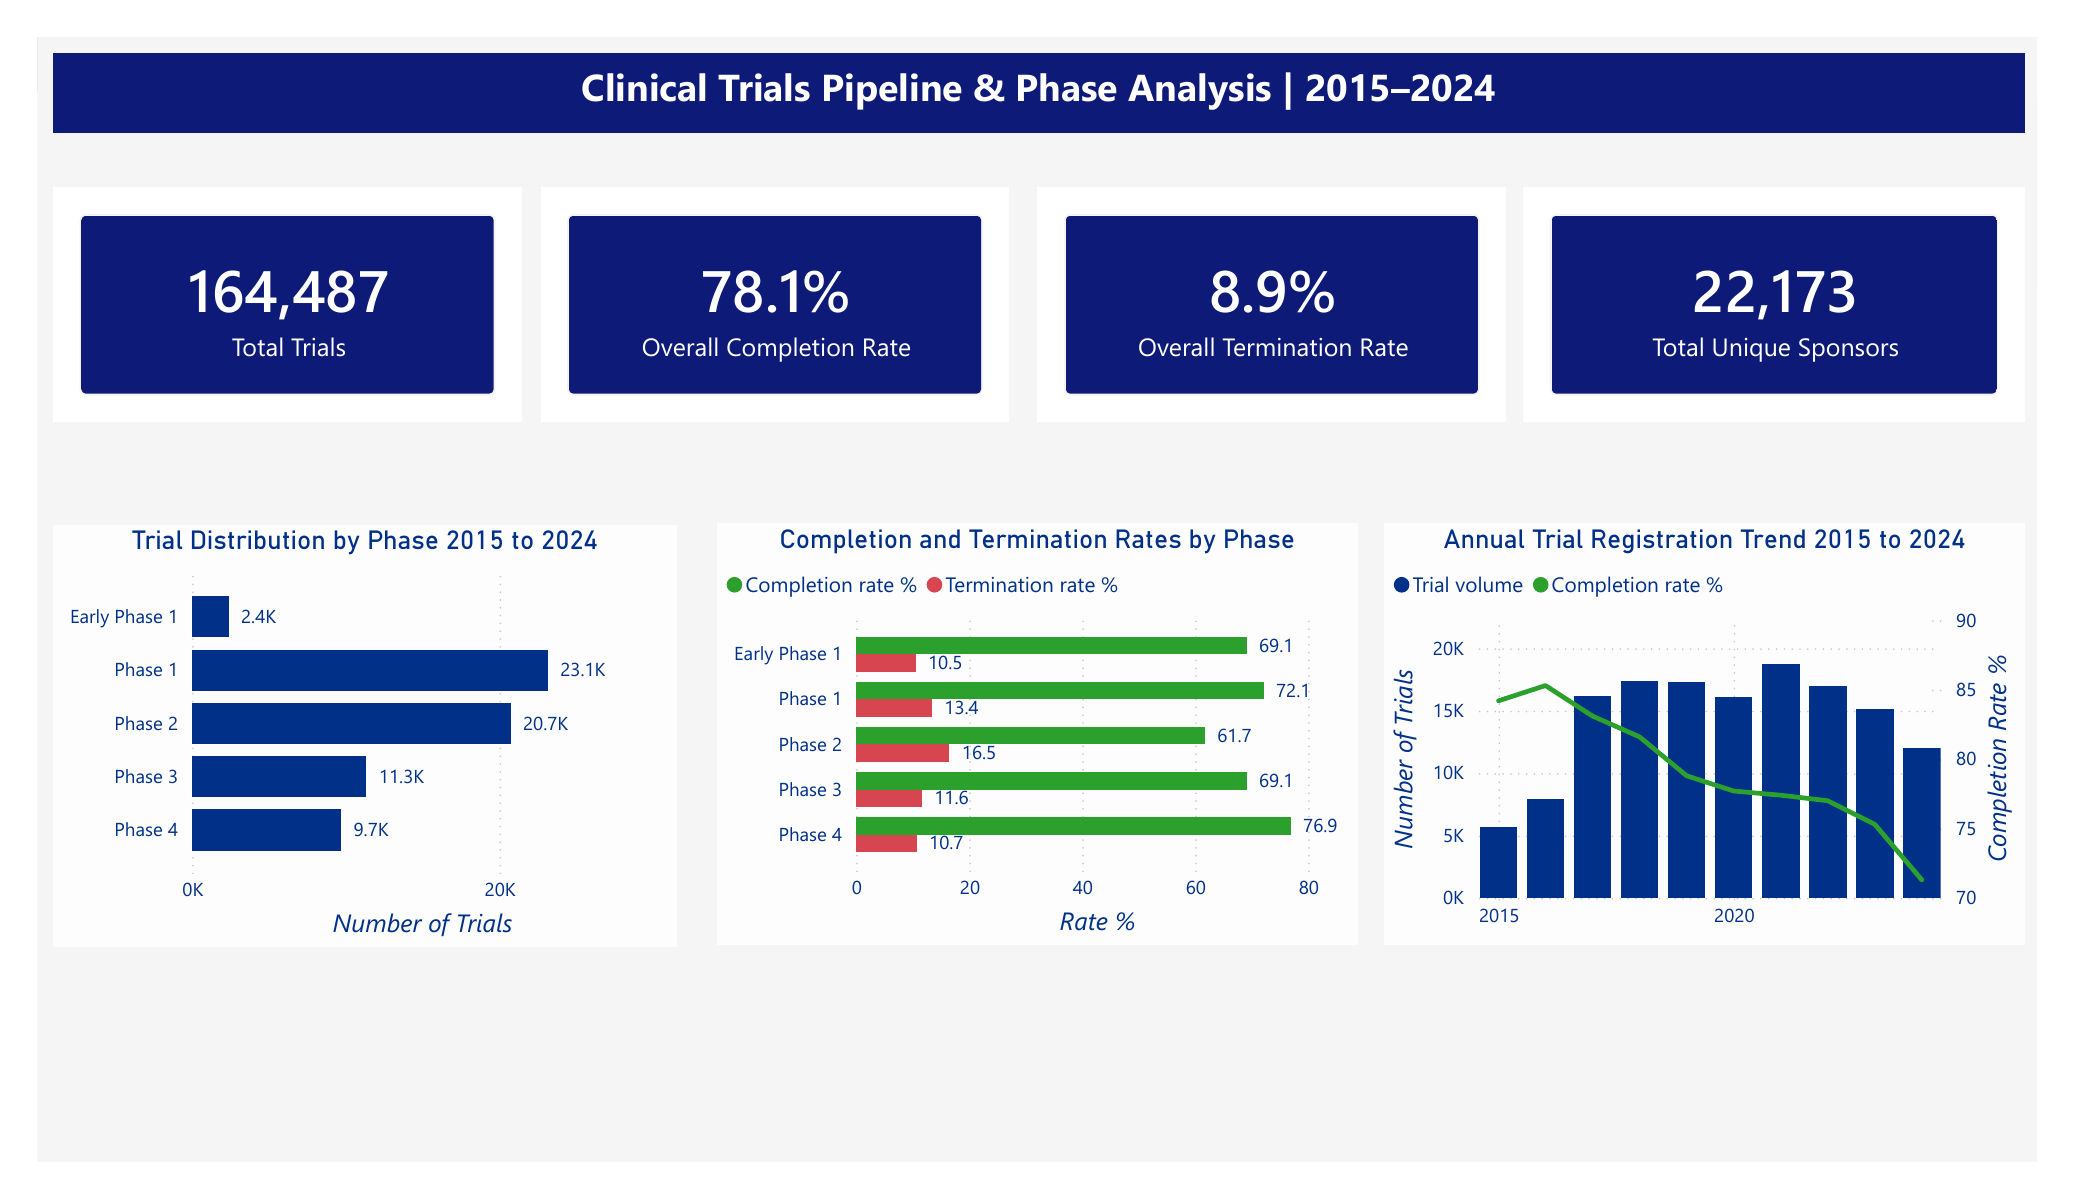

Layout of this report page (visuals, bound fields, positions):
{"tool":"powerbi","page":{"name":"Pipeline and Phase Analysis","canvas":[1280,720],"ordinal":0},"visuals":[{"type":"textbox","box":[10,10,1262.2,51.1],"z":0},{"type":"cardVisual","fields":{"Data":["_Measures.Total Trials"]},"box":[10,95.6,300,150],"z":1000},{"type":"cardVisual","fields":{"Data":["_Measures.Completion Rate"]},"box":[322,96,300,150],"z":2000},{"type":"cardVisual","fields":{"Data":["_Measures.Termination Rate"]},"box":[640,96,300,150],"z":3000},{"type":"clusteredBarChart","title":"Trial Distribution by Phase 2015 to 2024","fields":{"Y":["Sum(phase_summary.total_trials)"],"Category":["phase_summary.phase_label"]},"box":[9.7,312.2,399.8,269.4],"z":4000},{"type":"clusteredBarChart","title":"Completion and Termination Rates by Phase","fields":{"Category":["phase_summary.phase_label"],"Y":["Sum(phase_summary.completion_rate)","Sum(phase_summary.termination_rate)"]},"box":[435,311,410,270],"z":5000},{"type":"lineStackedColumnComboChart","title":"Annual Trial Registration Trend 2015 to 2024","fields":{"Category":["annual_summary.start_year"],"Y":["Sum(annual_summary.total_trials)"],"Y2":["Sum(annual_summary.completion_rate)"]},"box":[862,311,410,270],"z":6000},{"type":"cardVisual","fields":{"Data":["_Measures.Total Unique Sponsors"]},"box":[951,96,321,150],"z":7000}]}

Visuals, with their boxes on the page's 1280x720 design canvas (x1, y1, x2, y2). These are canvas units, not pixel positions in the 2075x1200 screenshot, which may show the page scaled, cropped or inside an application window:
textbox: left=10, top=10, right=1272, bottom=61
cardVisual - _Measures.Total Trials: left=10, top=96, right=310, bottom=246
cardVisual - _Measures.Completion Rate: left=322, top=96, right=622, bottom=246
cardVisual - _Measures.Termination Rate: left=640, top=96, right=940, bottom=246
"Trial Distribution by Phase 2015 to 2024" clusteredBarChart: left=10, top=312, right=410, bottom=582
"Completion and Termination Rates by Phase" clusteredBarChart: left=435, top=311, right=845, bottom=581
"Annual Trial Registration Trend 2015 to 2024" lineStackedColumnComboChart: left=862, top=311, right=1272, bottom=581
cardVisual - _Measures.Total Unique Sponsors: left=951, top=96, right=1272, bottom=246
